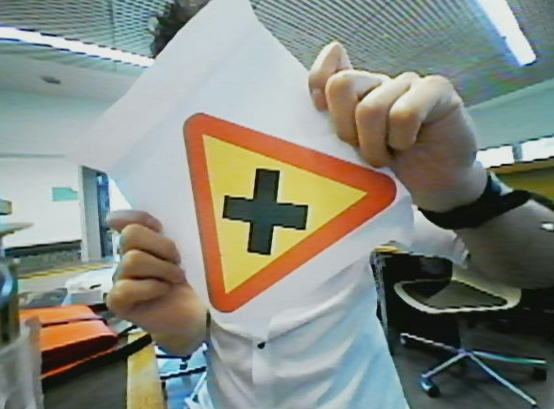junction: (185, 110, 396, 317)
